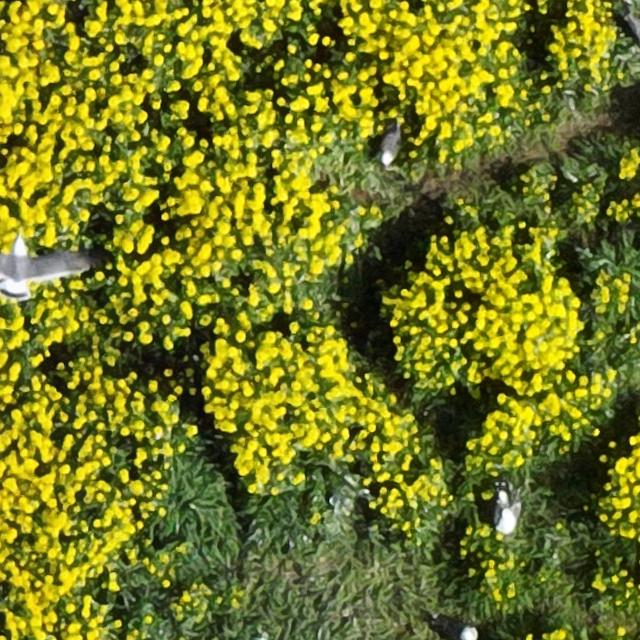F: (0, 251, 86, 294)
umineko: (496, 496, 518, 534), (435, 618, 474, 638), (379, 128, 399, 164)
